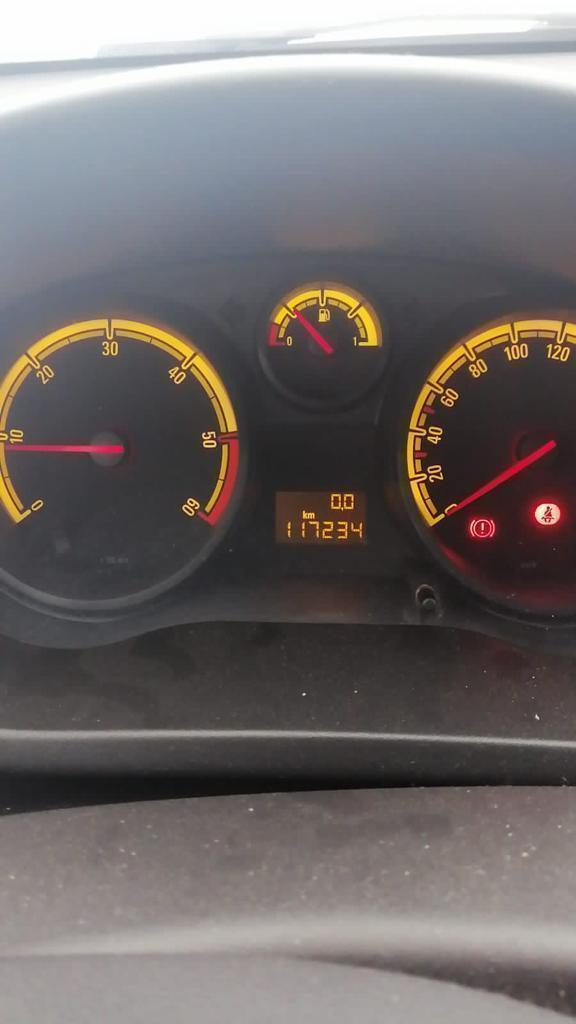,: (340, 506, 343, 512)
0: (330, 492, 341, 509), (343, 493, 354, 509)
1: (286, 520, 291, 538), (301, 521, 305, 538)
2: (321, 520, 334, 538)
3: (336, 520, 348, 539)
4: (350, 521, 362, 538)
7: (307, 520, 319, 538)
X: (307, 512, 315, 519), (302, 509, 307, 519)
odometer: (273, 488, 368, 546)
